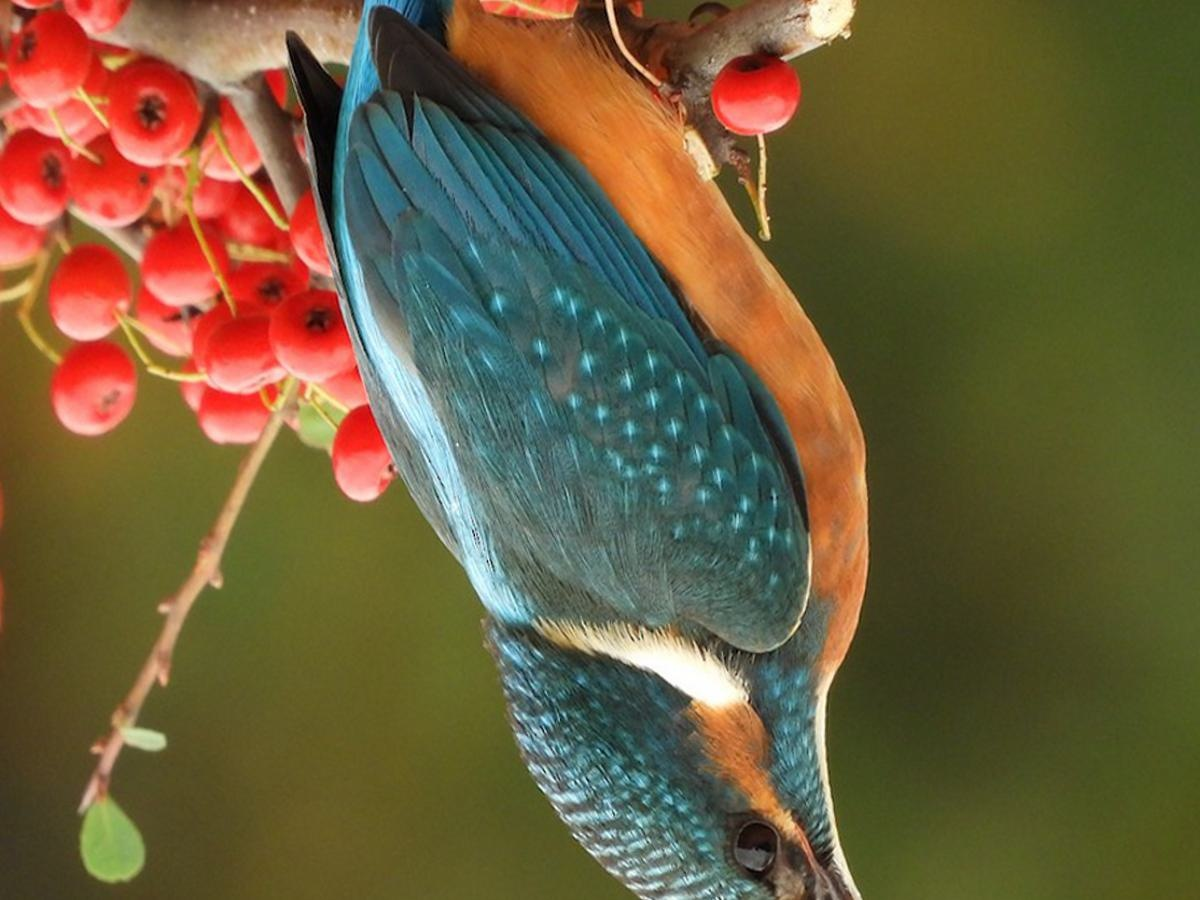kingfisher: (289, 25, 896, 900)
